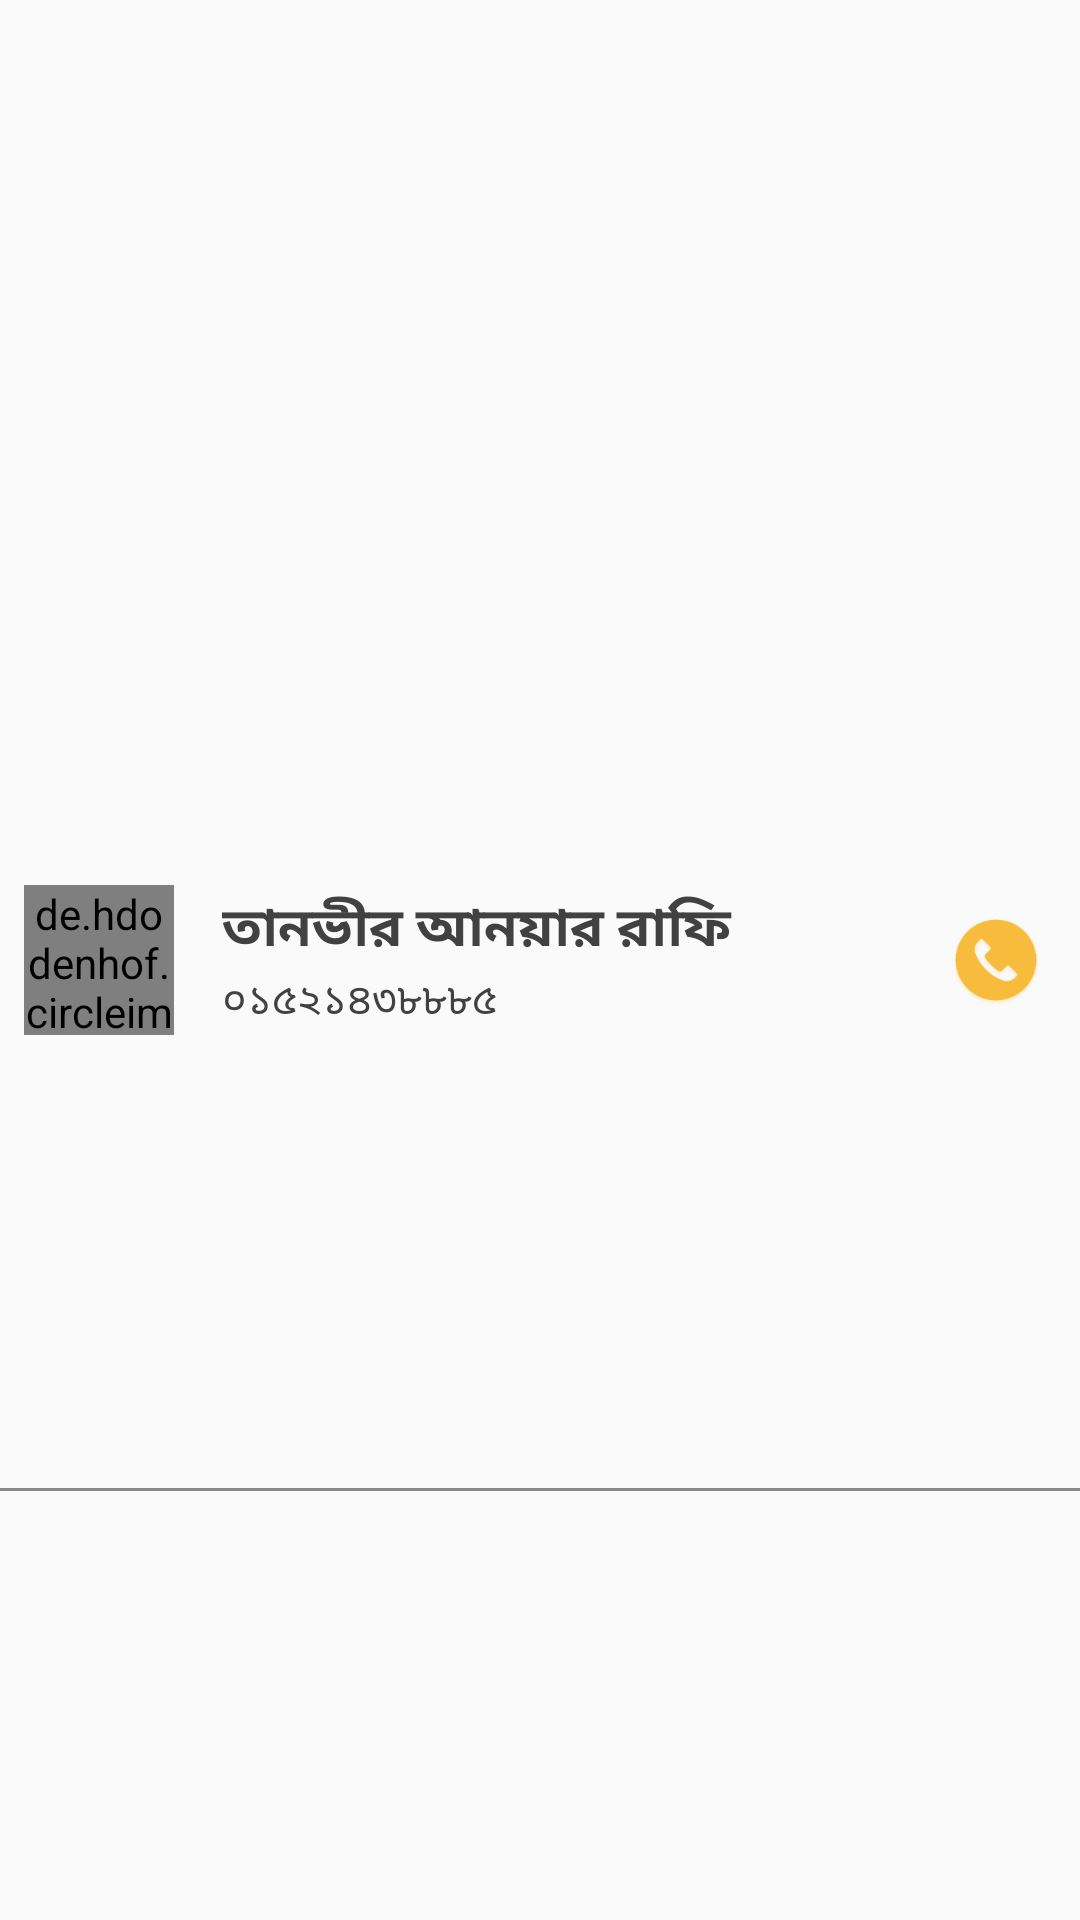

Point at icon controls on the screen. Image size 1080 x 1920, points as (x=x, y=y).
call round: (x=996, y=960)
